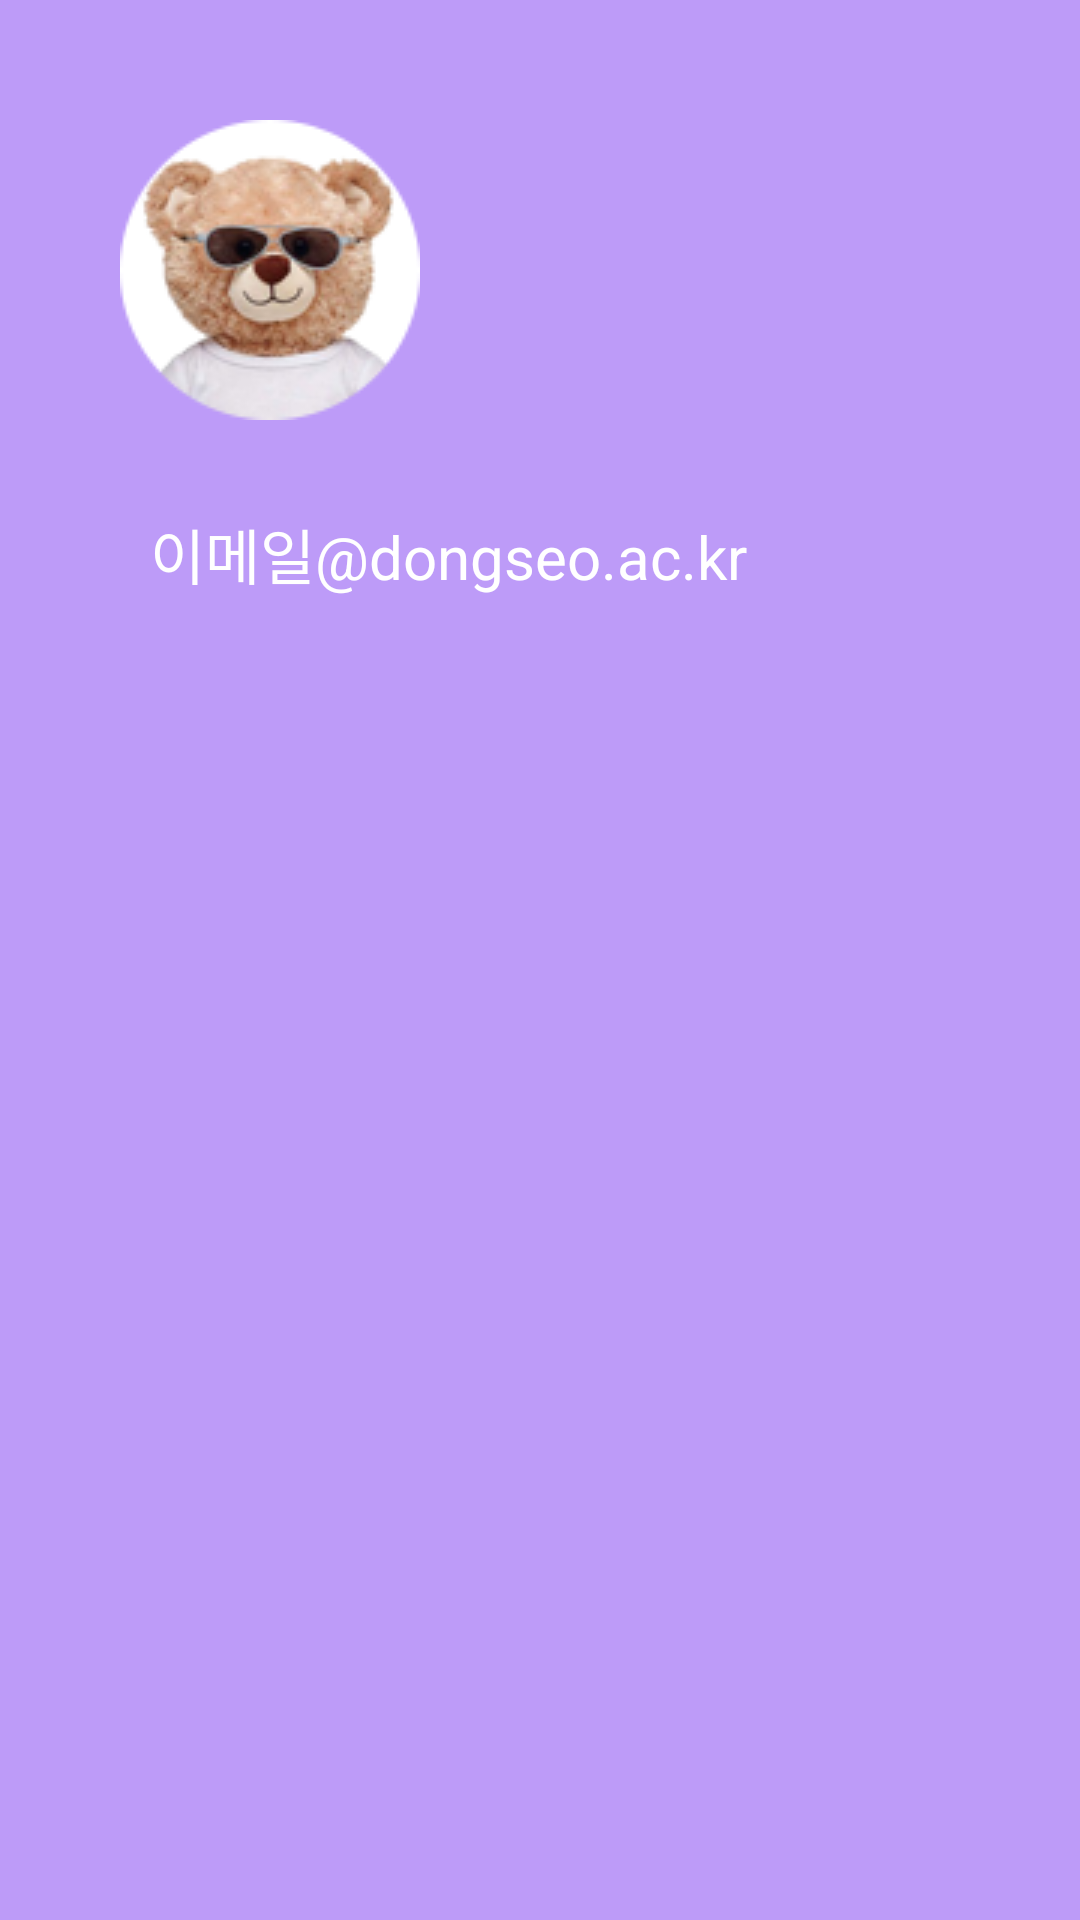

Icons on this 1080 x 1920 Android screen, each with the point to tap as [x,y]:
profile: [270,270]
